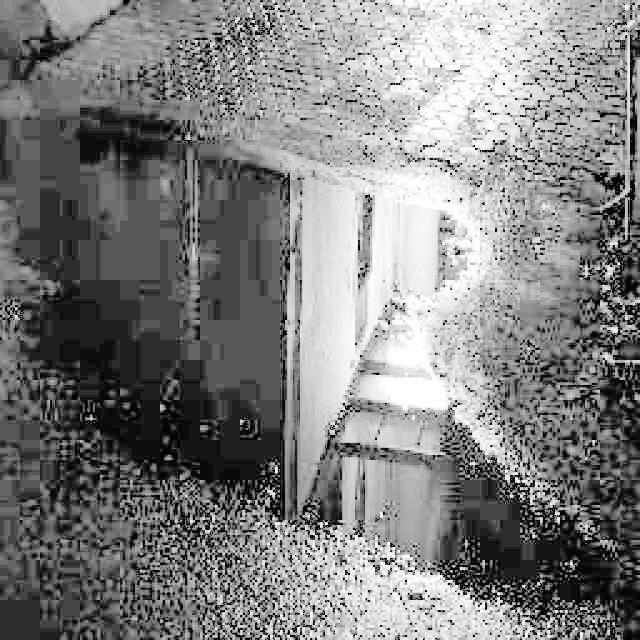Pothole: (0, 67, 623, 640)
